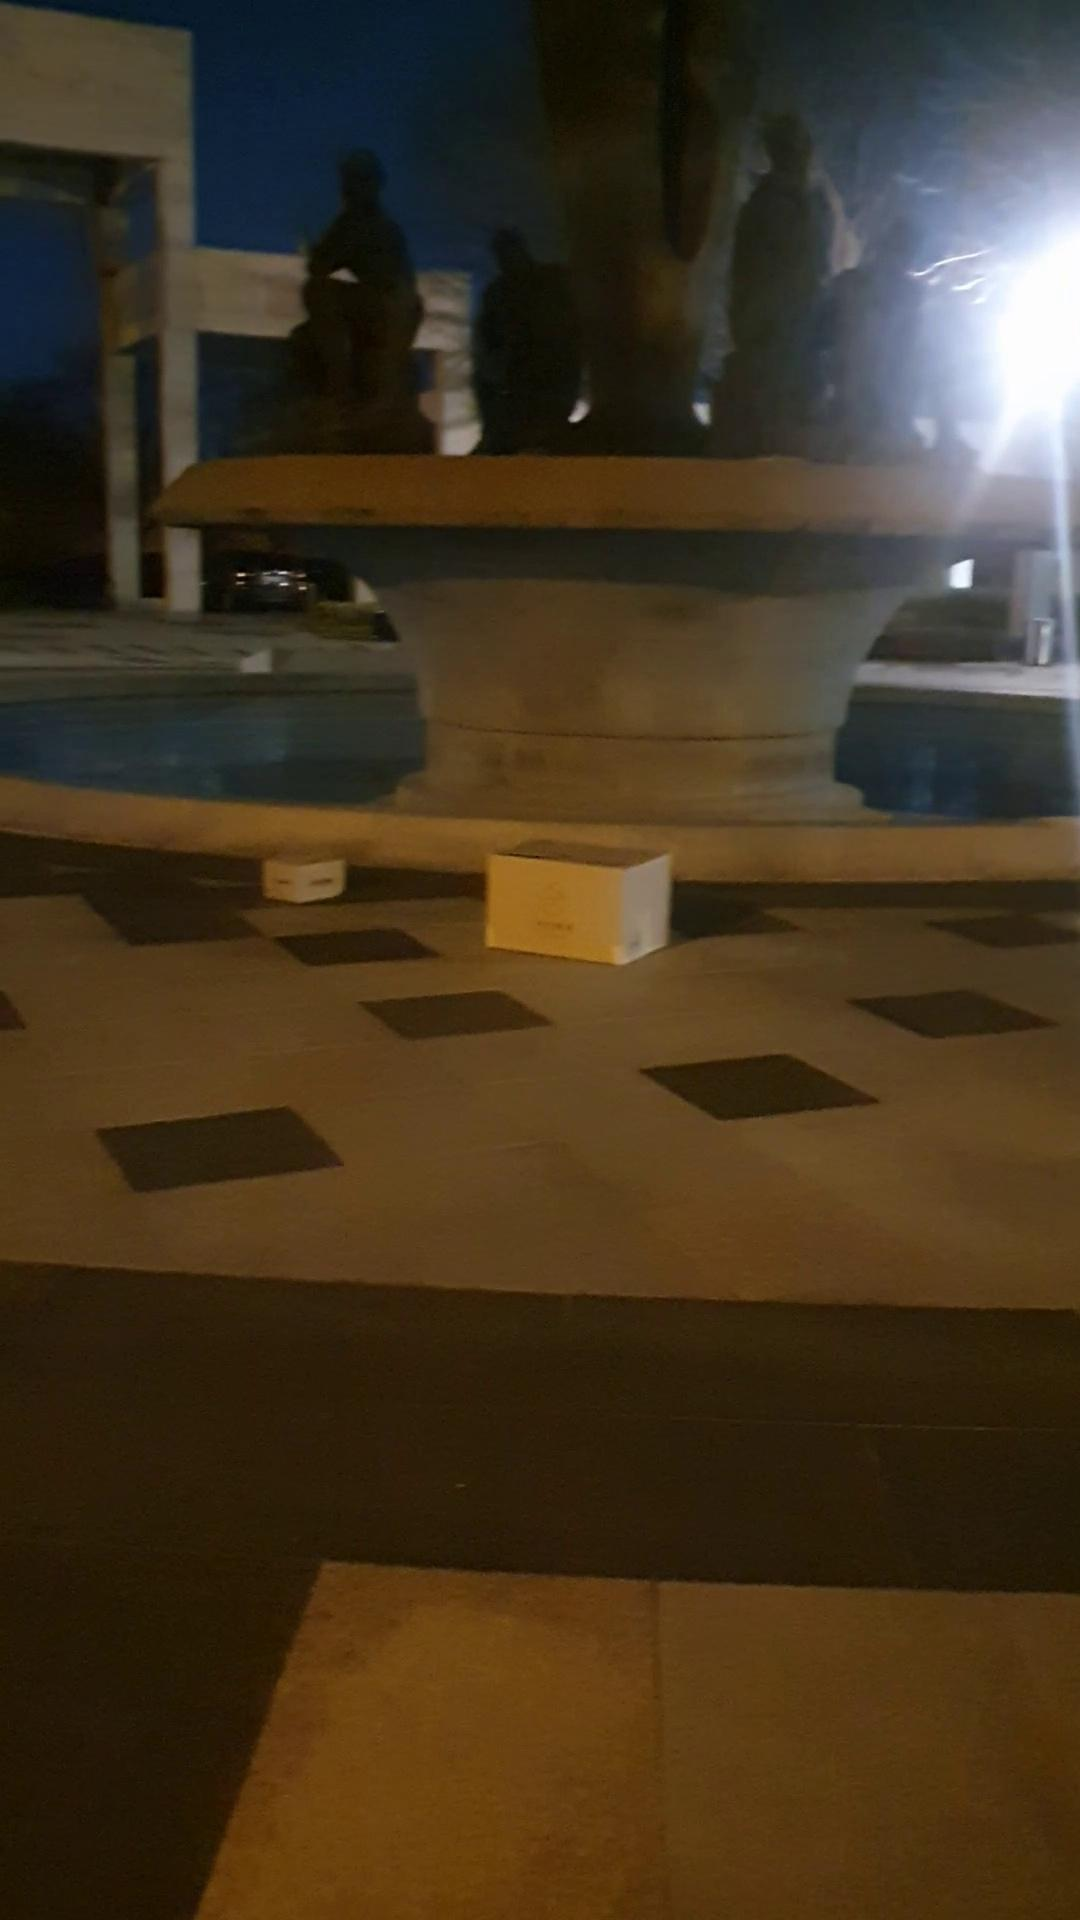Box: (471, 823, 682, 985), (256, 829, 353, 924)
